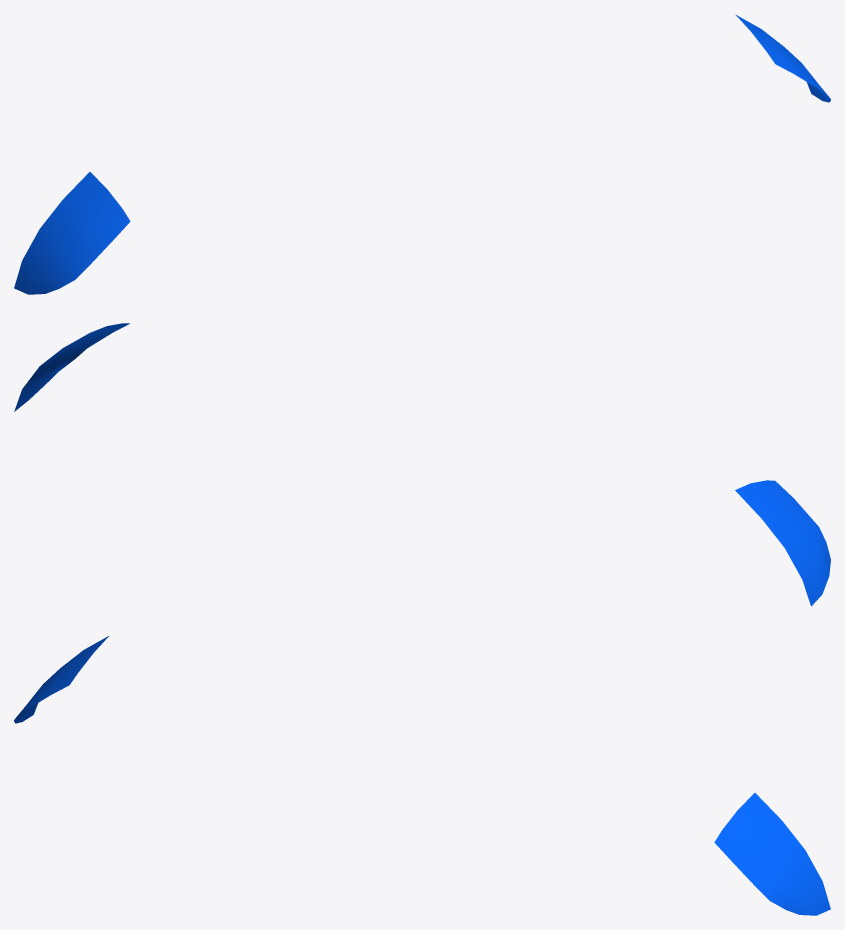
File: Agile_01_Indicator_Glass_HD.obj
3 renders of one model, top to bottom at view 1: azimuth 30°, elevation 25°; view 2: azimuth 150°, elevation 25°; view 3: azimuth 330°, elevation 25°, orthographic.
Visible parts, largest first — view 1: Agile_01_Indicator_Glass_HD001; view 2: Agile_01_Indicator_Glass_HD001; view 3: Agile_01_Indicator_Glass_HD001.
Boxes of the visible parts, x1,y1,x2,y2 form: Agile_01_Indicator_Glass_HD001: (14, 15, 830, 294); Agile_01_Indicator_Glass_HD001: (14, 323, 830, 606); Agile_01_Indicator_Glass_HD001: (14, 636, 830, 915).
Bounding box in the file's own units: 169 × 19.85 × 15.24.
